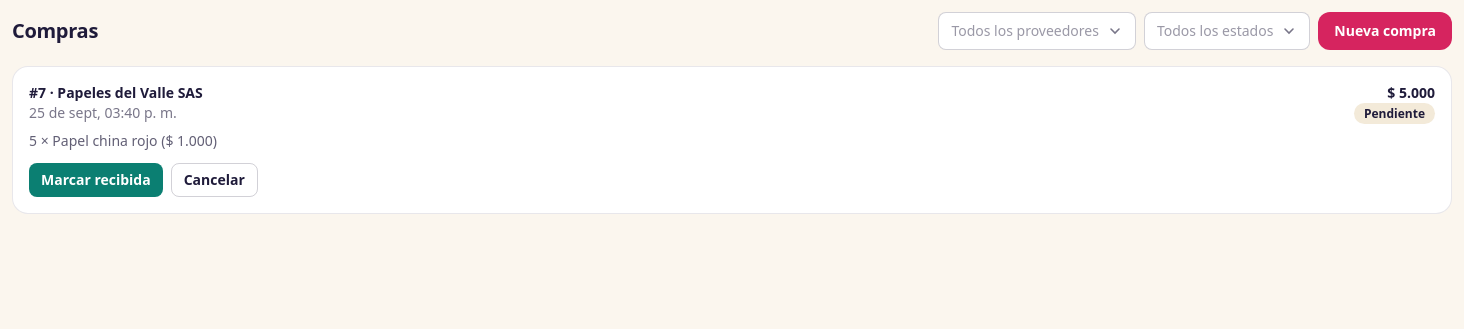
Test: Compras › se puede volver sin recibir la compra
Click the button "Marcar recibida": (96,180) [29, 163, 163, 197]
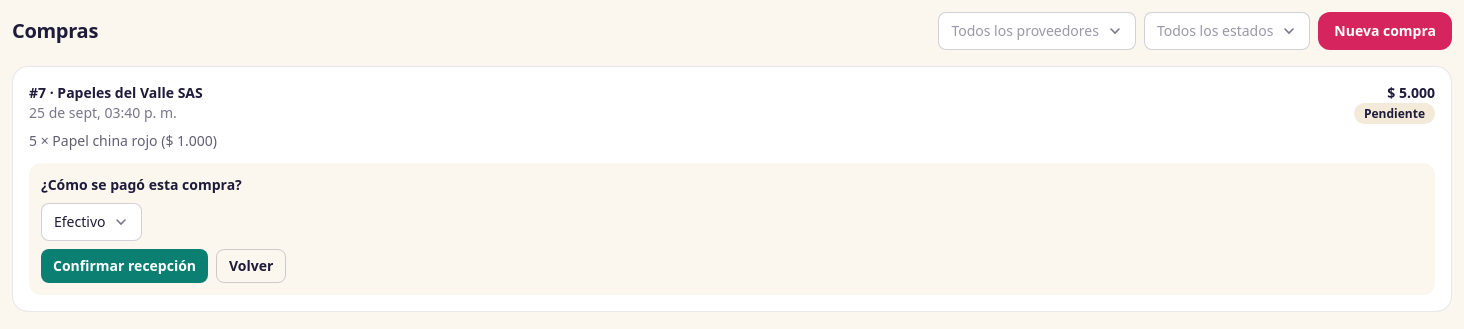
Click the button "Volver": (251,266) [216, 249, 286, 283]
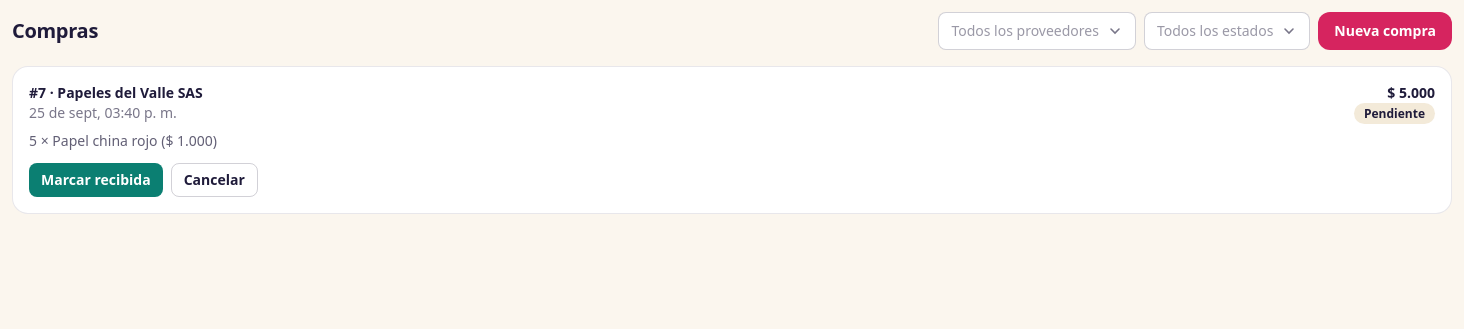
Expected: the button "Marcar recibida" is shown, [29, 163, 163, 197]
